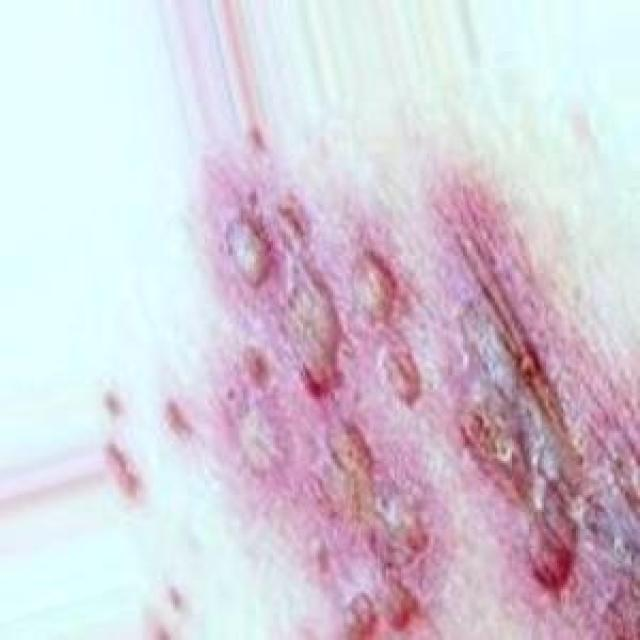Shingles: (194, 187, 578, 640)
